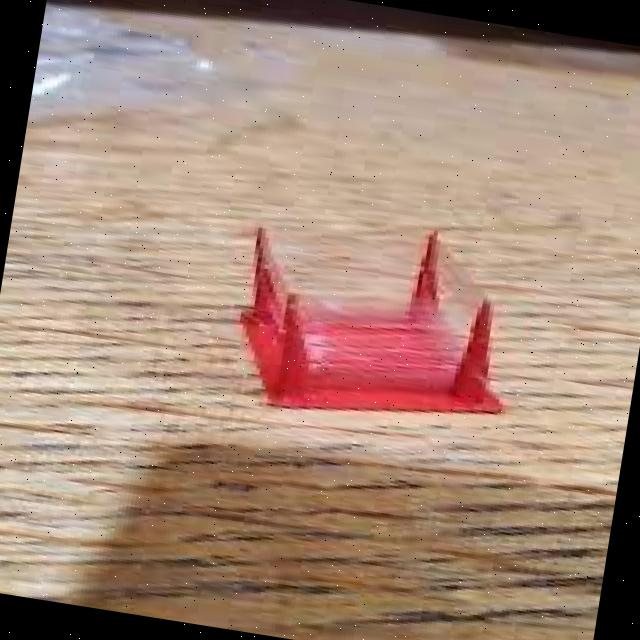stringing: (268, 222, 413, 311), (301, 310, 460, 386), (418, 243, 486, 362)
